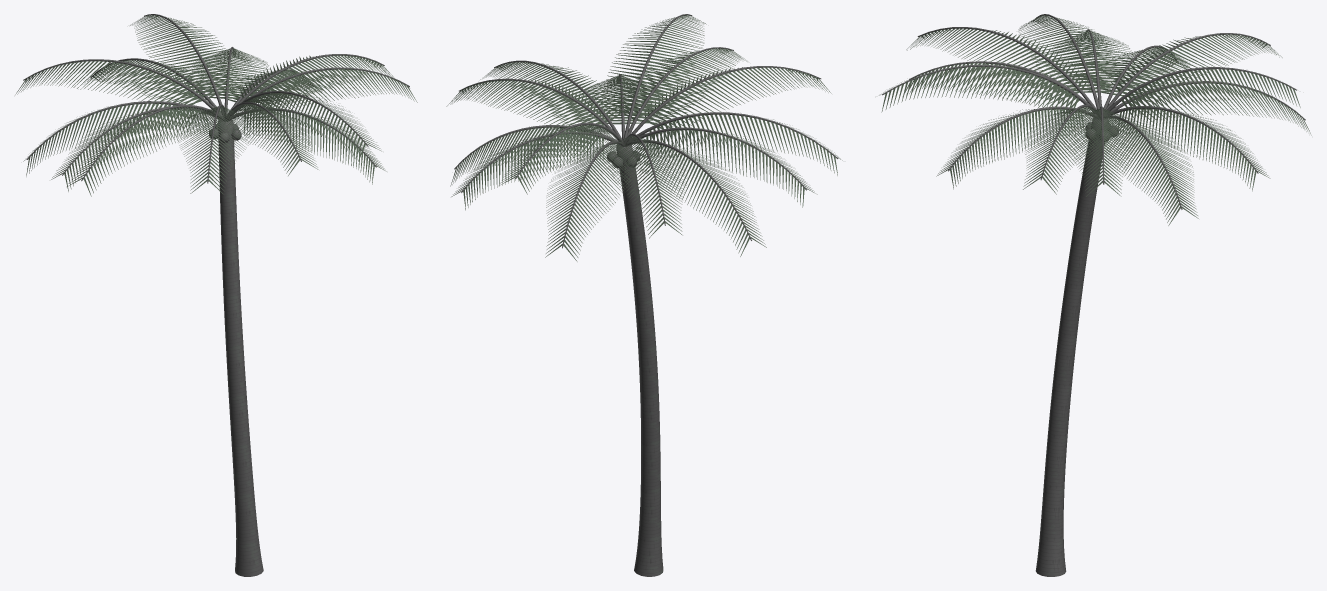
File: SM_Island_Palm_A.fbx
The picture shows the model from 3 angles, left to right: view 1: azimuth 30°, elevation 25°; view 2: azimuth 150°, elevation 25°; view 3: azimuth 270°, elevation 25°; orthographic projection. The views are drawn at different scales.
Parts seen in each view (by area): view 1: SM_Island_Palm_A; view 2: SM_Island_Palm_A; view 3: SM_Island_Palm_A.
Part boxes in pixels (box(x1,y1,x2,y2)): SM_Island_Palm_A: box(15, 14, 417, 576); SM_Island_Palm_A: box(446, 14, 842, 576); SM_Island_Palm_A: box(879, 14, 1311, 576).
Bounding box in the file's own units: 760 × 1032 × 791.
Materials: 2 (2 with a texture image).
